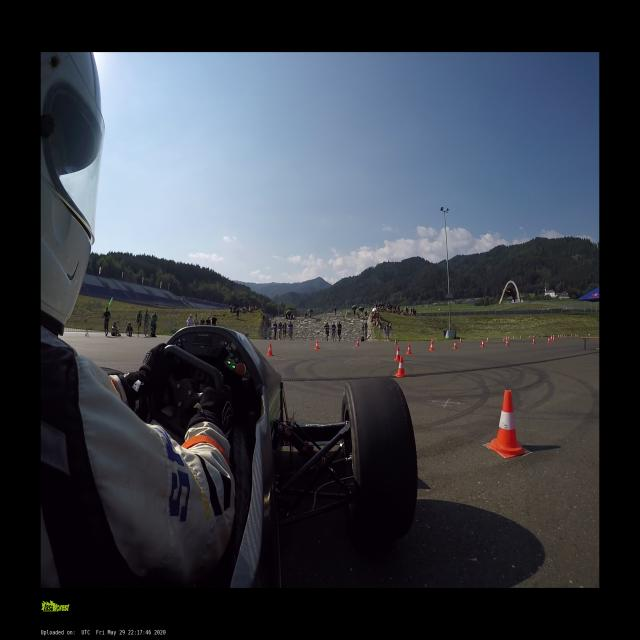orange_cone: (488, 390, 527, 457), (396, 356, 406, 377), (394, 347, 402, 361), (267, 343, 273, 356), (406, 344, 411, 354), (429, 342, 434, 350), (315, 341, 319, 349), (453, 341, 457, 348), (356, 339, 360, 346), (531, 338, 535, 344), (481, 340, 484, 347), (394, 338, 397, 344), (430, 338, 433, 344), (547, 337, 550, 342), (550, 335, 553, 340), (459, 337, 461, 343), (506, 340, 508, 346), (486, 337, 488, 342), (503, 337, 505, 341), (508, 336, 510, 339), (575, 334, 578, 336), (561, 335, 564, 337), (553, 336, 554, 340), (506, 336, 507, 340), (528, 336, 530, 338), (588, 333, 590, 335), (560, 335, 562, 337), (570, 334, 572, 336), (513, 336, 514, 338), (558, 335, 559, 337), (520, 336, 521, 338)
